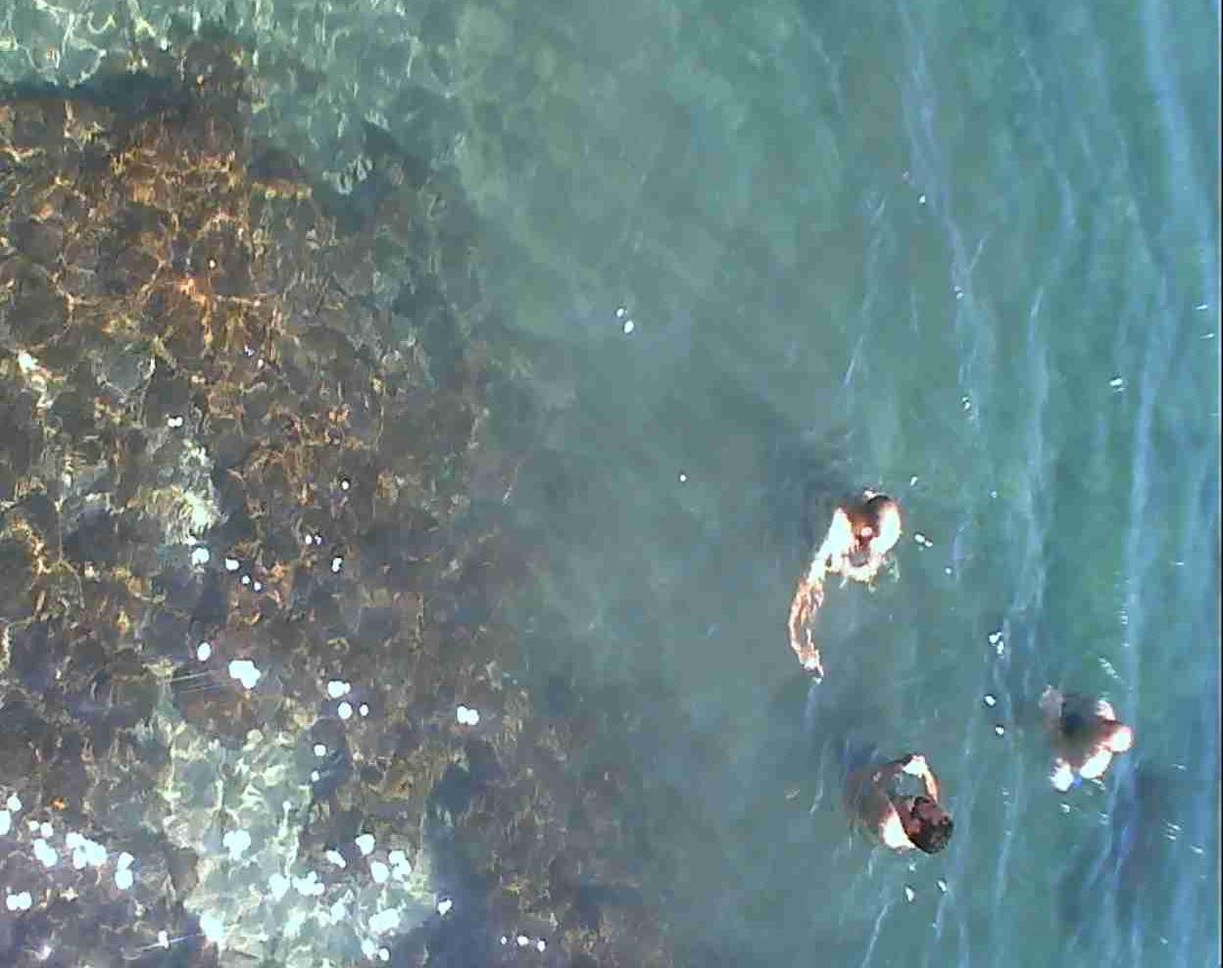swimmer: (783, 474, 909, 688), (1034, 667, 1130, 801), (852, 744, 954, 870)
